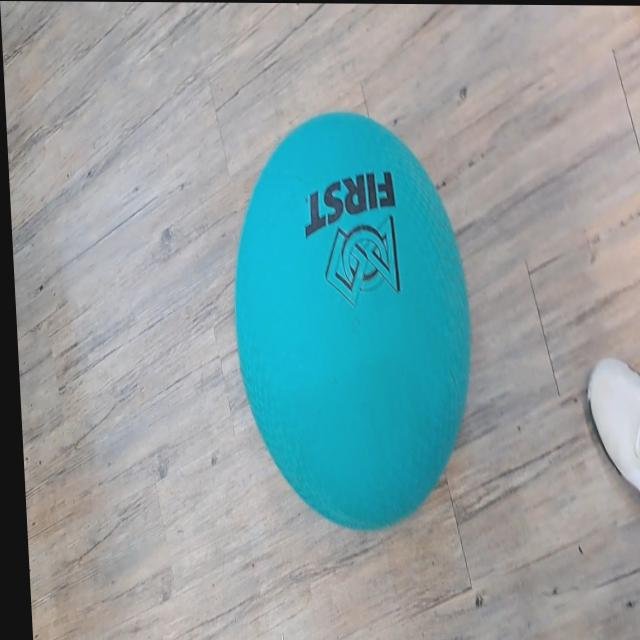ALGAE: (223, 108, 483, 534)
